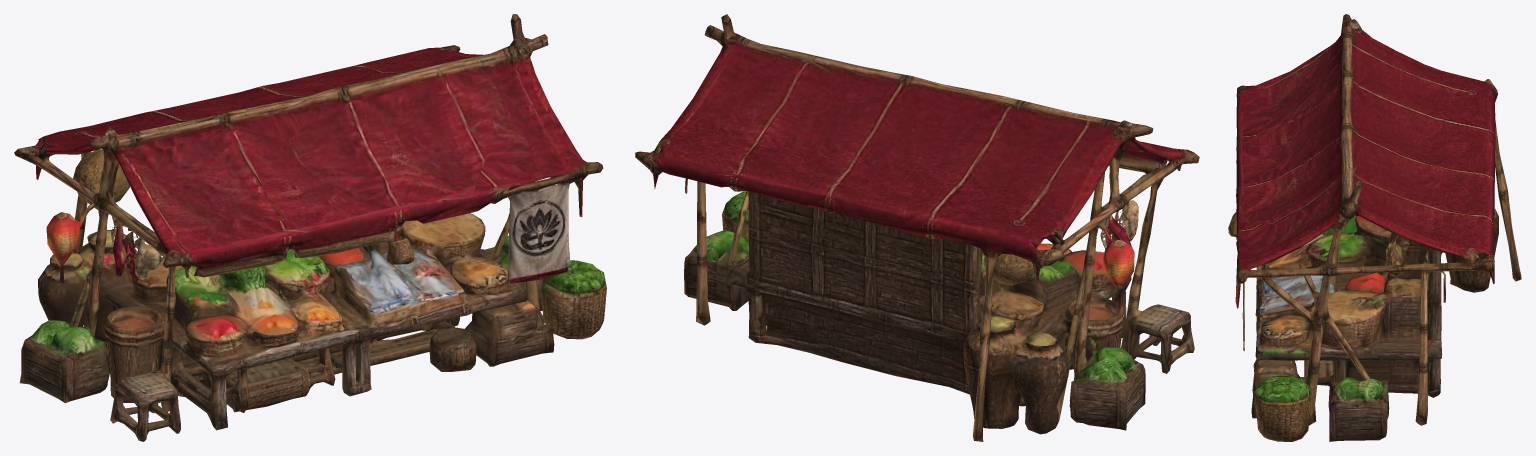
The model's file is barraca.glb.
The picture shows the model from 3 angles, left to right: view 1: azimuth 30°, elevation 25°; view 2: azimuth 150°, elevation 25°; view 3: azimuth 270°, elevation 25°; orthographic projection. The views are drawn at different scales.
Visible parts, largest first — view 1: barraca; view 2: barraca; view 3: barraca.
Part boxes in pixels (<box>): barraca: <box>14,14,606,441</box>; barraca: <box>635,14,1199,441</box>; barraca: <box>1228,14,1521,441</box>.
Size of the model in its own units: 5.41 by 3 by 3.21.
Materials: 1 (1 with a texture image).
